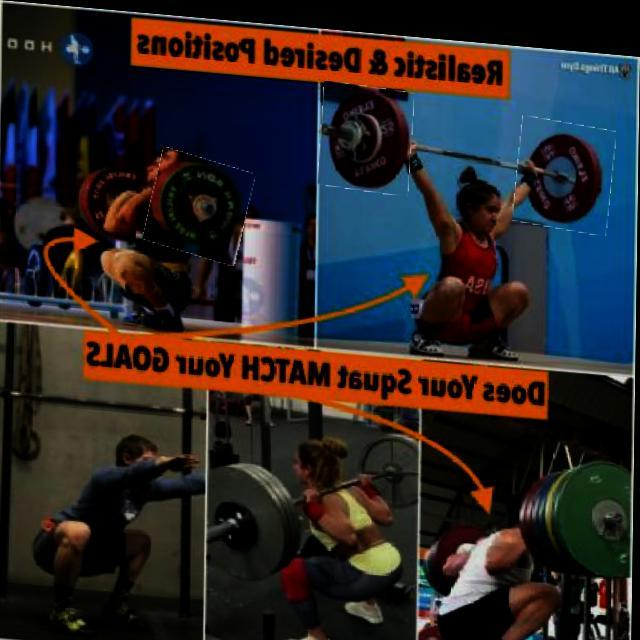barbell: (148, 148, 252, 260), (515, 108, 615, 224), (320, 77, 413, 189)
